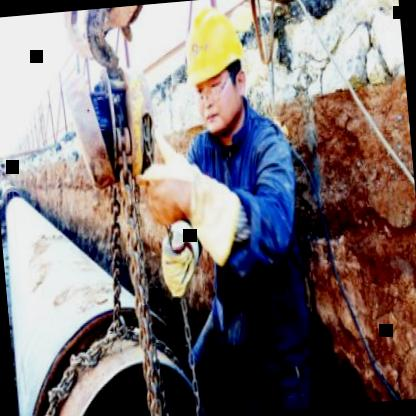helmet: (177, 0, 258, 147)
